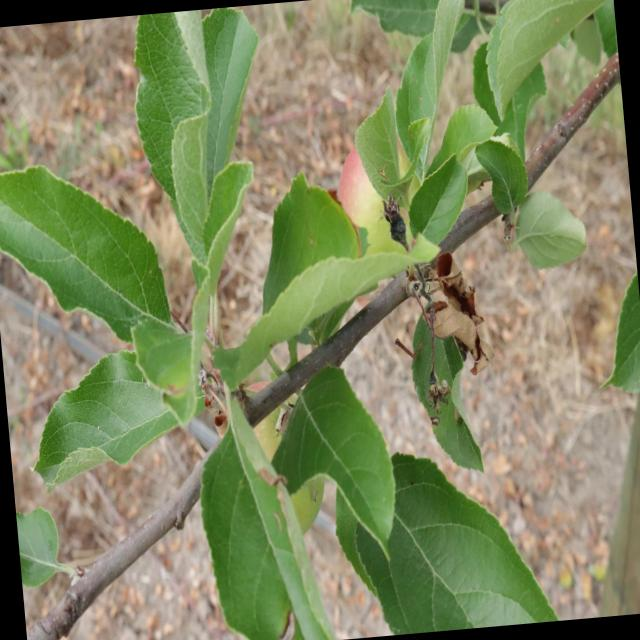-FireBlight-: (414, 258, 495, 381)
